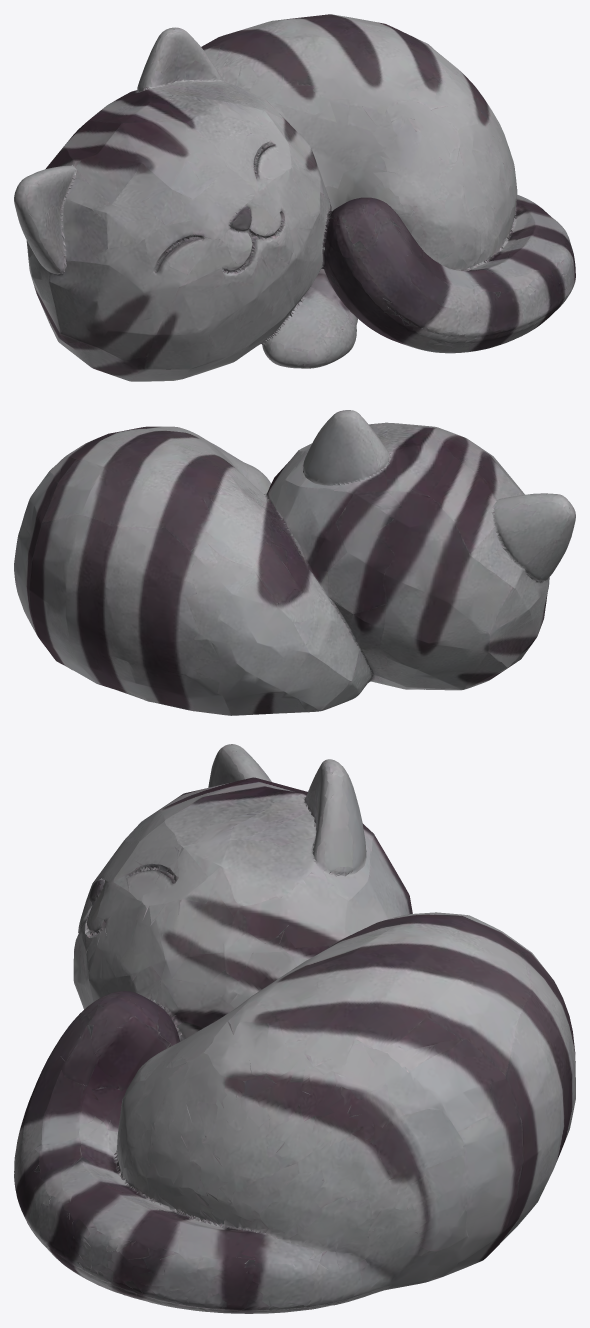
The model's file is cat.glb.
3 views of the same model, one above another, from view 1: azimuth 30°, elevation 25°; view 2: azimuth 150°, elevation 25°; view 3: azimuth 270°, elevation 25° (orthographic). The views are drawn at different scales.
Size of the model in its own units: 1.9 by 0.9429 by 1.38.
Materials: 1 (1 with a texture image).
